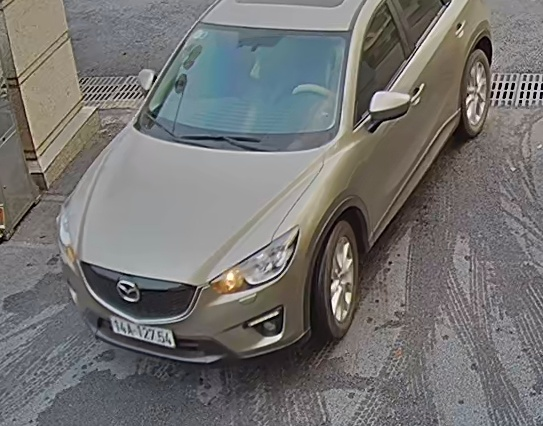vehicle plate: (107, 311, 179, 349)
